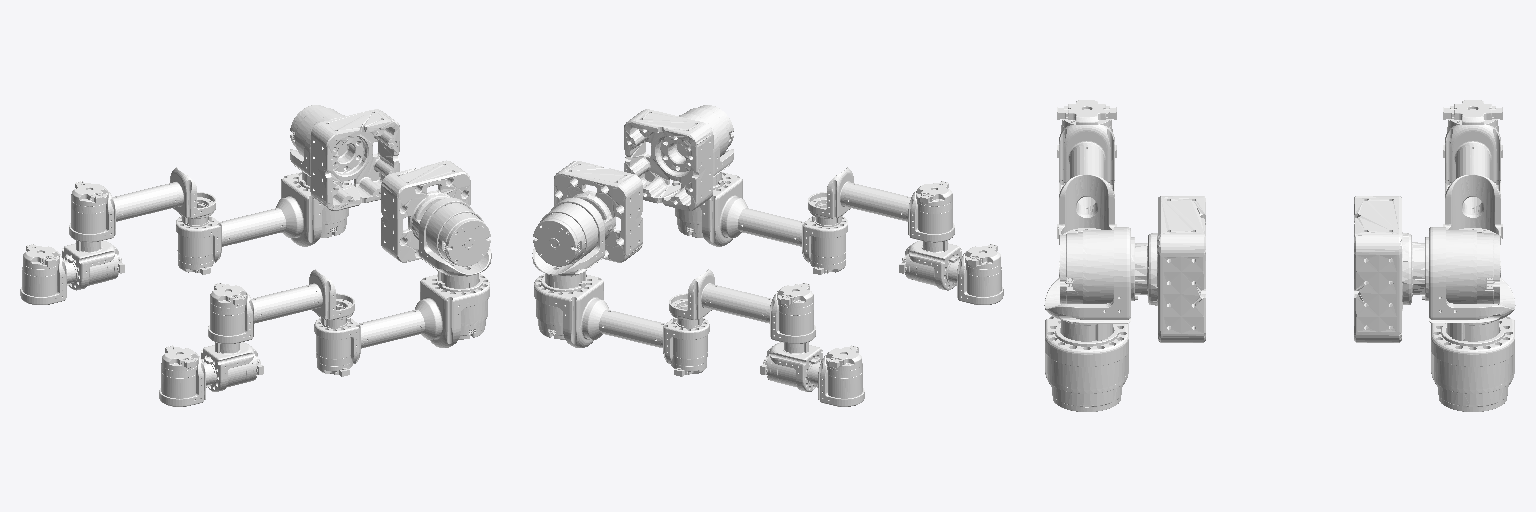
--- What the picture shows (computed from the rendered views, not written in the file) ---
The picture shows the robot from 3 angles, left to right: view 1: azimuth 30°, elevation 25°; view 2: azimuth 150°, elevation 25°; view 3: azimuth 270°, elevation 25°; orthographic projection.
Model dual_arm with 18 links and 17 joints (12 revolute, 1 continuous, 4 fixed), rooted at dummy, posed all joints at 0.
Links seen in each view (by area): view 1: left_base_link, right_2_Link, left_2_Link, right_base_link, left_3_Link, right_1_Link, right_3_Link, left_4_Link, right_4_Link, right_6_Link, left_6_Link, left_1_Link (+2 smaller); view 2: right_base_link, left_2_Link, right_2_Link, left_base_link, right_3_Link, left_1_Link, left_3_Link, right_4_Link, left_4_Link, left_6_Link, right_6_Link, right_1_Link (+2 smaller); view 3: left_base_link, right_base_link, right_1_Link, left_1_Link, left_2_Link, right_2_Link, right_3_Link, left_3_Link, left_4_Link, right_4_Link.
Link boxes in pixels (left/top/right/bottom): left_base_link: left=310, top=109, right=399, bottom=210; right_2_Link: left=314, top=274, right=489, bottom=363; left_2_Link: left=176, top=172, right=351, bottom=262; right_base_link: left=381, top=160, right=470, bottom=262; left_3_Link: left=69, top=167, right=215, bottom=274; right_1_Link: left=419, top=197, right=491, bottom=288; right_3_Link: left=208, top=269, right=354, bottom=376; left_4_Link: left=62, top=181, right=115, bottom=290; right_4_Link: left=201, top=283, right=254, bottom=391; right_6_Link: left=161, top=345, right=197, bottom=398; left_6_Link: left=22, top=244, right=58, bottom=296; left_1_Link: left=290, top=105, right=344, bottom=185; right_base_link: left=624, top=109, right=713, bottom=210; left_2_Link: left=534, top=274, right=709, bottom=363; right_2_Link: left=672, top=172, right=847, bottom=262; left_base_link: left=554, top=161, right=642, bottom=262; right_3_Link: left=808, top=167, right=954, bottom=274; left_1_Link: left=532, top=197, right=604, bottom=288; left_3_Link: left=669, top=269, right=815, bottom=376; right_4_Link: left=908, top=181, right=961, bottom=290; left_4_Link: left=769, top=283, right=822, bottom=391; left_6_Link: left=826, top=345, right=862, bottom=398; right_6_Link: left=965, top=244, right=1001, bottom=296; right_1_Link: left=679, top=105, right=733, bottom=185; left_base_link: left=1354, top=196, right=1424, bottom=342; right_base_link: left=1135, top=196, right=1205, bottom=342; right_1_Link: left=1044, top=227, right=1137, bottom=341; left_1_Link: left=1422, top=227, right=1515, bottom=341; left_2_Link: left=1431, top=277, right=1514, bottom=411; right_2_Link: left=1045, top=277, right=1128, bottom=411; right_3_Link: left=1059, top=125, right=1114, bottom=244; left_3_Link: left=1445, top=125, right=1500, bottom=244; left_4_Link: left=1443, top=100, right=1502, bottom=193; right_4_Link: left=1057, top=100, right=1116, bottom=193.
Bounding box of the posed robot: 0.5444 × 0.4771 × 0.2196 m (x, y, z).
Meshes: 8 distinct files referenced, 14 mesh visuals loaded (7 binary STL); not drawn: 1 (reference not matched to a file when rendering).

robot.urdf — dual_arm:
<?xml version="1.0" ?>
<!-- =================================================================================== -->
<!-- |    This document was autogenerated by xacro from dual_arm.xacro                 | -->
<!-- |    EDITING THIS FILE BY HAND IS NOT RECOMMENDED                                 | -->
<!-- =================================================================================== -->
<robot name="dual_arm">
  <!--Constant define-->
  <!--base define-->
  
  <link name="dummy">
    </link>
  


  <joint name="dummy_center_joint" type="fixed">
    <origin rpy="0 0 0" xyz="0 0 0"/>
    <parent link="dummy"/>
    <child link="cloud_platform"/>
  </joint>
  <link name="cloud_platform">
    </link>

  <joint name="cloud_platform_joint" type="continuous">
    <origin rpy="0 0 -1.570795" xyz="0 0 0"/>
    <parent link="cloud_platform"/>
    <child link="base_link"/>
    <axis xyz="0 0 1"/>
    <!--limit effort="60" lower="-3.14159" upper="4.14159" velocity="3.14"/-->
  </joint>

  <link name="base_link">
    <inertial>
      <origin rpy="0 0 0" xyz="1.3843E-15 1.0159E-16 0.052813"/>
      <mass value="1.088"/>
      <inertia ixx="0.0062111" ixy="-2.1701E-18" ixz="-3.8041E-17" iyy="0.019573" iyz="2.4964E-18" izz="0.018603"/>
    </inertial>
    <visual>
      <origin rpy="0 0 0" xyz="0 0 0"/>
      <geometry>
        <mesh filename="package://gluon/meshes/center_link.stl"/>
      </geometry>
      <material name="">
        <color rgba="1 1 1 1"/>
      </material>
    </visual>
    <collision>
      <origin rpy="0 0 0" xyz="0 0 0"/>
      <geometry>
        <mesh filename="package://gluon/meshes/center_link.stl"/>
      </geometry>
    </collision>
  </link>
  <link name="kinect2_link">
    </link>
  <joint name="camera_center_joint" type="fixed">
    <origin rpy="3.132523668443418 -0.08587519624949608 1.574670554067391" xyz="1.726742473702382041e-02 -4.821492818581604722e-01 7.785277826224238362e-01"/>
    <parent link="dummy"/>
    <child link="kinect2_link"/>
  </joint>
  <joint name="left_base_joint" type="fixed">
    <origin rpy="-1.570795 0 1.570795" xyz="-0.075 0 0.095"/>
    <parent link="base_link"/>
    <child link="left_base_link"/>
  </joint>
  <link name="left_base_link">
    <inertial>
      <origin rpy="0 0 0" xyz="-7.07923322916521E-05 -3.15078560279351E-07 0.00211490550882476"/>
      <mass value="0.947876033180305"/>
      <inertia ixx="0.0017318413107461" ixy="3.14952850900379E-10" ixz="2.06131736991631E-06" iyy="0.00151929091543902" iyz="-2.03157503363577E-07" izz="0.00288656909579778"/>
    </inertial>
    <visual>
      <origin rpy="0 0 0" xyz="0 0 0"/>
      <geometry>
        <mesh filename="package://gluon/meshes/base_link.STL"/>
      </geometry>
      <material name="">
        <color rgba="1 1 1 1"/>
      </material>
    </visual>
    <collision>
      <origin rpy="0 0 0" xyz="0 0 0"/>
      <geometry>
        <mesh filename="package://gluon/meshes/base_link.STL"/>
      </geometry>
    </collision>
  </link>
  <link name="left_1_Link">
    <inertial>
      <origin rpy="0 0 0" xyz="0.0136179271893209 7.04702633335797E-07 -0.00891671768932772"/>
      <mass value="0.427787775289708"/>
      <inertia ixx="0.000328336335162208" ixy="1.39942675254359E-08" ixz="-4.96624559527467E-05" iyy="0.000349499347099752" iyz="7.16862445800443E-09" izz="0.000398779291439988"/>
    </inertial>
    <visual>
      <origin rpy="0 0 0" xyz="0 0 0"/>
      <geometry>
        <mesh filename="package://gluon/meshes/1_Link.STL"/>
      </geometry>
      <material name="">
        <color rgba="1 1 1 1"/>
      </material>
    </visual>
    <collision>
      <origin rpy="0 0 0" xyz="0 0 0"/>
      <geometry>
        <mesh filename="package://gluon/meshes/1_Link.STL"/>
      </geometry>
    </collision>
  </link>
  <joint name="left_axis_joint_1" type="revolute">
    <origin rpy="0 0 1.5708" xyz="0 -1.7907E-05 0.1205"/>
    <parent link="left_base_link"/>
    <child link="left_1_Link"/>
    <axis xyz="0 0 -1"/>
    <limit effort="60" lower="-2.4" upper="2.4" velocity="3.14"/>
  </joint>
  <link name="left_2_Link">
    <inertial>
      <origin rpy="0 0 0" xyz="0.0282477009101944 4.3906549022065E-07 -0.00996354944497273"/>
      <mass value="0.474122227914849"/>
      <inertia ixx="0.000348140976643854" ixy="6.62975404584032E-09" ixz="-3.65184694791613E-05" iyy="0.000363227053478232" iyz="-1.49821649022608E-08" izz="0.00041732509280613"/>
    </inertial>
    <visual>
      <origin rpy="0 0 0" xyz="0 0 0"/>
      <geometry>
        <mesh filename="package://gluon/meshes/2_Link.STL"/>
      </geometry>
      <material name="">
        <color rgba="1 1 1 1"/>
      </material>
    </visual>
    <collision>
      <origin rpy="0 0 0" xyz="0 0 0"/>
      <geometry>
        <mesh filename="package://gluon/meshes/2_Link.STL"/>
      </geometry>
    </collision>
  </link>
  <joint name="left_axis_joint_2" type="revolute">
    <origin rpy="-1.5708 3.1416 -1.5708" xyz="0.1165 0 0"/>
    <parent link="left_1_Link"/>
    <child link="left_2_Link"/>
    <axis xyz="0 0 -1"/>
    <limit effort="60" lower="-2.4" upper="0.1" velocity="3.14"/>
  </joint>
  <link name="left_3_Link">
    <inertial>
      <origin rpy="0 0 0" xyz="0.0550000657149 1.02706571201196E-05 -0.0873823729588203"/>
      <mass value="0.150735858555544"/>
      <inertia ixx="6.48442797417871E-05" ixy="-7.37989542660507E-09" ixz="-1.63575029334465E-07" iyy="7.51775686938988E-05" iyz="-6.30391436593442E-09" izz="8.14430313397472E-05"/>
    </inertial>
    <visual>
      <origin rpy="0 0 0" xyz="0 0 0"/>
      <geometry>
        <mesh filename="package://gluon/meshes/3_Link.STL"/>
      </geometry>
      <material name="">
        <color rgba="1 1 1 1"/>
      </material>
    </visual>
    <collision>
      <origin rpy="0 0 0" xyz="0 0 0"/>
      <geometry>
        <mesh filename="package://gluon/meshes/3_Link.STL"/>
      </geometry>
    </collision>
  </link>
  <joint name="left_axis_joint_3" type="revolute">
    <origin rpy="-0.00039303 0 0" xyz="0.20352 2.2698E-05 0.03825"/>
    <parent link="left_2_Link"/>
    <child link="left_3_Link"/>
    <axis xyz="0 0 1"/>
    <limit effort="30" lower="-2.4" upper="2.4" velocity="3.14"/>
  </joint>
  <link name="left_4_Link">
    <inertial>
      <origin rpy="0 0 0" xyz="0.00316829014378384 -2.51807207740376E-05 -0.065762603358388"/>
      <mass value="0.0868240169253312"/>
      <inertia ixx="3.69273389374954E-05" ixy="-7.74427846366249E-09" ixz="6.58227930408113E-06" iyy="3.88095070665613E-05" iyz="-3.86379121232784E-09" izz="4.25312703267998E-05"/>
    </inertial>
    <visual>
      <origin rpy="0 0 0" xyz="0 0 0"/>
      <geometry>
        <mesh filename="package://gluon/meshes/4_Link.STL"/>
      </geometry>
      <material name="">
        <color rgba="1 1 1 1"/>
      </material>
    </visual>
    <collision>
      <origin rpy="0 0 0" xyz="0 0 0"/>
      <geometry>
        <mesh filename="package://gluon/meshes/4_Link.STL"/>
      </geometry>
    </collision>
  </link>
  <joint name="left_axis_joint_4" type="revolute">
    <origin rpy="-3.1412 0 0" xyz="0.173 1.58E-05 -0.1557"/>
    <parent link="left_3_Link"/>
    <child link="left_4_Link"/>
    <axis xyz="0 0 1"/>
    <limit effort="30" lower="-2.4" upper="2.4" velocity="3.14"/>
  </joint>
  <link name="left_5_Link">
    <inertial>
      <origin rpy="0 0 0" xyz="0.00301334222958494 2.51282272504116E-05 -0.0271578777359305"/>
      <mass value="0.0861219565127689"/>
      <inertia ixx="3.66130359688528E-05" ixy="-7.69517877575345E-09" ixz="6.39794733105846E-06" iyy="3.815099630915E-05" iyz="3.73716337127711E-09" izz="4.20198733154724E-05"/>
    </inertial>
    <visual>
      <origin rpy="0 0 0" xyz="0 0 0"/>
      <geometry>
        <mesh filename="package://gluon/meshes/5_Link.STL"/>
      </geometry>
      <material name="">
        <color rgba="1 1 1 1"/>
      </material>
    </visual>
    <collision>
      <origin rpy="0 0 0" xyz="0 0 0"/>
      <geometry>
        <mesh filename="package://gluon/meshes/5_Link.STL"/>
      </geometry>
    </collision>
  </link>
  <joint name="left_axis_joint_5" type="revolute">
    <origin rpy="3.1416 1.5708 0" xyz="0 0 -0.11743"/>
    <parent link="left_4_Link"/>
    <child link="left_5_Link"/>
    <axis xyz="0 0 1"/>
    <limit effort="30" lower="-2.4" upper="2.4" velocity="3.14"/>
  </joint>
  <link name="left_6_Link">
    <inertial>
      <origin rpy="0 0 0" xyz="2.43062335152366E-05 1.80532182430252E-05 0.0293761927296333"/>
      <mass value="0.0341435122227797"/>
      <inertia ixx="9.69578526103206E-06" ixy="-7.64383826654747E-09" ixz="-3.2515655925902E-09" iyy="1.02214035330215E-05" iyz="6.36682596346152E-09" izz="1.67442220589365E-05"/>
    </inertial>
    <visual>
      <origin rpy="0 0 0" xyz="0 0 0"/>
      <geometry>
        <mesh filename="package://gluon/meshes/6_Link.STL"/>
      </geometry>
      <material name="">
        <color rgba="1 1 1 1"/>
      </material>
    </visual>
    <collision>
      <origin rpy="0 0 0" xyz="0 0 0"/>
      <geometry>
        <mesh filename="package://gluon/meshes/6_Link.STL"/>
      </geometry>
    </collision>
  </link>
  <joint name="left_axis_joint_6" type="revolute">
    <origin rpy="3.1412 1.5708 0" xyz="0.019524 2.2696E-05 -0.079176"/>
    <parent link="left_5_Link"/>
    <child link="left_6_Link"/>
    <axis xyz="0 0 1"/>
    <limit effort="30" lower="-2.4" upper="2.4" velocity="3.14"/>
  </joint>
  <!--gazebo reference="left_base_link">
    <material>Gazebo/White</material>
  </gazebo>
  <gazebo reference="left_1_Link">
    <material>Gazebo/White</material>
    <selfCollide>true</selfCollide>
  </gazebo>
  <gazebo reference="left_2_Link">
    <material>Gazebo/White</material>
    <selfCollide>true</selfCollide>
  </gazebo>
  <gazebo reference="left_3_Link">
    <material>Gazebo/White</material>
    <selfCollide>true</selfCollide>
  </gazebo>
  <gazebo reference="left_4_Link">
    <material>Gazebo/White</material>
    <selfCollide>true</selfCollide>
  </gazebo>
  <gazebo reference="left_5_Link">
    <material>Gazebo/White</material>
    <selfCollide>true</selfCollide>
  </gazebo>
  <gazebo reference="left_6_Link">
    <material>Gazebo/White</material>
    <selfCollide>true</selfCollide>
  </gazebo>
  <transmission name="left_axis_joint_1_trans">
    <type>transmission_interface/SimpleTransmission</type>
    <joint name="left_axis_joint_1">
      <hardwareInterface>hardware_interface/EffortJointInterface</hardwareInterface>
    </joint>
    <actuator name="left_axis_joint_1_motor">
      <hardwareInterface>hardware_interface/EffortJointInterface</hardwareInterface>
      <mechanicalReduction>1</mechanicalReduction>
    </actuator>
  </transmission>
  <transmission name="left_axis_joint_2_trans">
    <type>transmission_interface/SimpleTransmission</type>
    <joint name="left_axis_joint_2">
      <hardwareInterface>hardware_interface/EffortJointInterface</hardwareInterface>
    </joint>
    <actuator name="left_axis_joint_2_motor">
      <hardwareInterface>hardware_interface/EffortJointInterface</hardwareInterface>
      <mechanicalReduction>1</mechanicalReduction>
    </actuator>
  </transmission>
  <transmission name="left_axis_joint_3_trans">
    <type>transmission_interface/SimpleTransmission</type>
    <joint name="left_axis_joint_3">
      <hardwareInterface>hardware_interface/EffortJointInterface</hardwareInterface>
    </joint>
    <actuator name="left_axis_joint_3_motor">
      <hardwareInterface>hardware_interface/EffortJointInterface</hardwareInterface>
      <mechanicalReduction>1</mechanicalReduction>
    </actuator>
  </transmission>
  <transmission name="left_axis_joint_4_trans">
    <type>transmission_interface/SimpleTransmission</type>
    <joint name="left_axis_joint_4">
      <hardwareInterface>hardware_interface/EffortJointInterface</hardwareInterface>
    </joint>
    <actuator name="left_axis_joint_4_motor">
      <hardwareInterface>hardware_interface/EffortJointInterface</hardwareInterface>
      <mechanicalReduction>1</mechanicalReduction>
    </actuator>
  </transmission>
  <transmission name="left_axis_joint_5_trans">
    <type>transmission_interface/SimpleTransmission</type>
    <joint name="left_axis_joint_5">
      <hardwareInterface>hardware_interface/EffortJointInterface</hardwareInterface>
    </joint>
    <actuator name="left_axis_joint_5_motor">
      <hardwareInterface>hardware_interface/EffortJointInterface</hardwareInterface>
      <mechanicalReduction>1</mechanicalReduction>
    </actuator>
  </transmission>
  <transmission name="left_axis_joint_6_trans">
    <type>transmission_interface/SimpleTransmission</type>
    <joint name="left_axis_joint_6">
      <hardwareInterface>hardware_interface/EffortJointInterface</hardwareInterface>
    </joint>
    <actuator name="left_axis_joint_6_motor">
      <hardwareInterface>hardware_interface/EffortJointInterface</hardwareInterface>
      <mechanicalReduction>1</mechanicalReduction>
    </actuator>
  </transmission-->
  <joint name="right_base_joint" type="fixed">
    <origin rpy="1.570795 0 1.570795" xyz="0.075 0 0.095"/>
    <parent link="base_link"/>
    <child link="right_base_link"/>
  </joint>
  <link name="right_base_link">
    <inertial>
      <origin rpy="0 0 0" xyz="-7.07923322916521E-05 -3.15078560279351E-07 0.00211490550882476"/>
      <mass value="0.947876033180305"/>
      <inertia ixx="0.0017318413107461" ixy="3.14952850900379E-10" ixz="2.06131736991631E-06" iyy="0.00151929091543902" iyz="-2.03157503363577E-07" izz="0.00288656909579778"/>
    </inertial>
    <visual>
      <origin rpy="0 0 0" xyz="0 0 0"/>
      <geometry>
        <mesh filename="package://gluon/meshes/base_link.STL"/>
      </geometry>
      <material name="">
        <color rgba="1 1 1 1"/>
      </material>
    </visual>
    <collision>
      <origin rpy="0 0 0" xyz="0 0 0"/>
      <geometry>
        <mesh filename="package://gluon/meshes/base_link.STL"/>
      </geometry>
    </collision>
  </link>
  <link name="right_1_Link">
    <inertial>
      <origin rpy="0 0 0" xyz="0.0136179271893209 7.04702633335797E-07 -0.00891671768932772"/>
      <mass value="0.427787775289708"/>
      <inertia ixx="0.000328336335162208" ixy="1.39942675254359E-08" ixz="-4.96624559527467E-05" iyy="0.000349499347099752" iyz="7.16862445800443E-09" izz="0.000398779291439988"/>
    </inertial>
    <visual>
      <origin rpy="0 0 0" xyz="0 0 0"/>
      <geometry>
        <mesh filename="package://gluon/meshes/1_Link.STL"/>
      </geometry>
      <material name="">
        <color rgba="1 1 1 1"/>
      </material>
    </visual>
    <collision>
      <origin rpy="0 0 0" xyz="0 0 0"/>
      <geometry>
        <mesh filename="package://gluon/meshes/1_Link.STL"/>
      </geometry>
    </collision>
  </link>
  <joint name="right_axis_joint_1" type="revolute">
    <origin rpy="0 0 -1.5708" xyz="0 -1.7907E-05 0.1205"/>
    <parent link="right_base_link"/>
    <child link="right_1_Link"/>
    <axis xyz="0 0 -1"/>
    <limit effort="60" lower="-2.4" upper="2.4" velocity="3.14"/>
  </joint>
  <link name="right_2_Link">
    <inertial>
      <origin rpy="0 0 0" xyz="0.0282477009101944 4.3906549022065E-07 -0.00996354944497273"/>
      <mass value="0.474122227914849"/>
      <inertia ixx="0.000348140976643854" ixy="6.62975404584032E-09" ixz="-3.65184694791613E-05" iyy="0.000363227053478232" iyz="-1.49821649022608E-08" izz="0.00041732509280613"/>
    </inertial>
    <visual>
      <origin rpy="0 0 0" xyz="0 0 0"/>
      <geometry>
        <mesh filename="package://gluon/meshes/2_Link.STL"/>
      </geometry>
      <material name="">
        <color rgba="1 1 1 1"/>
      </material>
    </visual>
    <collision>
      <origin rpy="0 0 0" xyz="0 0 0"/>
      <geometry>
        <mesh filename="package://gluon/meshes/2_Link.STL"/>
      </geometry>
    </collision>
  </link>
  <joint name="right_axis_joint_2" type="revolute">
    <origin rpy="-1.5708 0 -1.5708" xyz="0.1165 0 0"/>
    <parent link="right_1_Link"/>
    <child link="right_2_Link"/>
    <axis xyz="0 0 -1"/>
    <limit effort="60" lower="-0.1" upper="1.54" velocity="3.14"/>
  </joint>
  <link name="right_3_Link">
    <inertial>
      <origin rpy="0 0 0" xyz="0.0550000657149 1.02706571201196E-05 -0.0873823729588203"/>
      <mass value="0.150735858555544"/>
      <inertia ixx="6.48442797417871E-05" ixy="-7.37989542660507E-09" ixz="-1.63575029334465E-07" iyy="7.51775686938988E-05" iyz="-6.30391436593442E-09" izz="8.14430313397472E-05"/>
    </inertial>
    <visual>
      <origin rpy="0 0 0" xyz="0 0 0"/>
      <geometry>
        <mesh filename="package://gluon/meshes/3_Link.STL"/>
      </geometry>
      <material name="">
        <color rgba="1 1 1 1"/>
      </material>
    </visual>
    <collision>
      <origin rpy="0 0 0" xyz="0 0 0"/>
      <geometry>
        <mesh filename="package://gluon/meshes/3_Link.STL"/>
      </geometry>
    </collision>
  </link>
  <joint name="right_axis_joint_3" type="revolute">
    <origin rpy="-0.00039303 0 0" xyz="0.20352 2.2698E-05 0.03825"/>
    <parent link="right_2_Link"/>
    <child link="right_3_Link"/>
    <axis xyz="0 0 1"/>
    <limit effort="30" lower="-2.4" upper="2.4" velocity="3.14"/>
  </joint>
  <link name="right_4_Link">
    <inertial>
      <origin rpy="0 0 0" xyz="0.00316829014378384 -2.51807207740376E-05 -0.065762603358388"/>
      <mass value="0.0868240169253312"/>
      <inertia ixx="3.69273389374954E-05" ixy="-7.74427846366249E-09" ixz="6.58227930408113E-06" iyy="3.88095070665613E-05" iyz="-3.86379121232784E-09" izz="4.25312703267998E-05"/>
    </inertial>
    <visual>
      <origin rpy="0 0 0" xyz="0 0 0"/>
      <geometry>
        <mesh filename="package://gluon/meshes/4_Link.STL"/>
      </geometry>
      <material name="">
        <color rgba="1 1 1 1"/>
      </material>
    </visual>
    <collision>
      <origin rpy="0 0 0" xyz="0 0 0"/>
      <geometry>
        <mesh filename="package://gluon/meshes/4_Link.STL"/>
      </geometry>
    </collision>
  </link>
  <joint name="right_axis_joint_4" type="revolute">
    <origin rpy="-3.1412 0 0" xyz="0.173 1.58E-05 -0.1557"/>
    <parent link="right_3_Link"/>
    <child link="right_4_Link"/>
    <axis xyz="0 0 1"/>
    <limit effort="30" lower="-2.4" upper="2.4" velocity="3.14"/>
  </joint>
  <link name="right_5_Link">
    <inertial>
      <origin rpy="0 0 0" xyz="0.00301334222958494 2.51282272504116E-05 -0.0271578777359305"/>
      <mass value="0.0861219565127689"/>
      <inertia ixx="3.66130359688528E-05" ixy="-7.69517877575345E-09" ixz="6.39794733105846E-06" iyy="3.815099630915E-05" iyz="3.73716337127711E-09" izz="4.20198733154724E-05"/>
    </inertial>
    <visual>
      <origin rpy="0 0 0" xyz="0 0 0"/>
      <geometry>
        <mesh filename="package://gluon/meshes/5_Link.STL"/>
      </geometry>
      <material name="">
        <color rgba="1 1 1 1"/>
      </material>
    </visual>
    <collision>
      <origin rpy="0 0 0" xyz="0 0 0"/>
      <geometry>
        <mesh filename="package://gluon/meshes/5_Link.STL"/>
      </geometry>
    </collision>
  </link>
  <joint name="right_axis_joint_5" type="revolute">
    <origin rpy="3.1416 1.5708 0" xyz="0 0 -0.11743"/>
    <parent link="right_4_Link"/>
    <child link="right_5_Link"/>
    <axis xyz="0 0 1"/>
    <limit effort="30" lower="-2.4" upper="2.4" velocity="3.14"/>
  </joint>
  <link name="right_6_Link">
    <inertial>
      <origin rpy="0 0 0" xyz="2.43062335152366E-05 1.80532182430252E-05 0.0293761927296333"/>
      <mass value="0.0341435122227797"/>
      <inertia ixx="9.69578526103206E-06" ixy="-7.64383826654747E-09" ixz="-3.2515655925902E-09" iyy="1.02214035330215E-05" iyz="6.36682596346152E-09" izz="1.67442220589365E-05"/>
    </inertial>
    <visual>
      <origin rpy="0 0 0" xyz="0 0 0"/>
      <geometry>
        <mesh filename="package://gluon/meshes/6_Link.STL"/>
      </geometry>
      <material name="">
        <color rgba="1 1 1 1"/>
      </material>
    </visual>
    <collision>
      <origin rpy="0 0 0" xyz="0 0 0"/>
      <geometry>
        <mesh filename="package://gluon/meshes/6_Link.STL"/>
      </geometry>
    </collision>
  </link>
  <joint name="right_axis_joint_6" type="revolute">
    <origin rpy="3.1412 1.5708 0" xyz="0.019524 2.2696E-05 -0.079176"/>
    <parent link="right_5_Link"/>
    <child link="right_6_Link"/>
    <axis xyz="0 0 -1"/>
    <limit effort="30" lower="-2.4" upper="2.4" velocity="3.14"/>
  </joint>
  <!--gazebo reference="right_base_link">
    <material>Gazebo/White</material>
  </gazebo>
  <gazebo reference="right_1_Link">
    <material>Gazebo/White</material>
    <selfCollide>true</selfCollide>
  </gazebo>
  <gazebo reference="right_2_Link">
    <material>Gazebo/White</material>
    <selfCollide>true</selfCollide>
  </gazebo>
  <gazebo reference="right_3_Link">
    <material>Gazebo/White</material>
    <selfCollide>true</selfCollide>
  </gazebo>
  <gazebo reference="right_4_Link">
    <material>Gazebo/White</material>
    <selfCollide>true</selfCollide>
  </gazebo>
  <gazebo reference="right_5_Link">
    <material>Gazebo/White</material>
    <selfCollide>true</selfCollide>
  </gazebo>
  <gazebo reference="right_6_Link">
    <material>Gazebo/White</material>
    <selfCollide>true</selfCollide>
  </gazebo>
  <transmission name="right_axis_joint_1_trans">
    <type>transmission_interface/SimpleTransmission</type>
    <joint name="right_axis_joint_1">
      <hardwareInterface>hardware_interface/EffortJointInterface</hardwareInterface>
    </joint>
    <actuator name="right_axis_joint_1_motor">
      <hardwareInterface>hardware_interface/EffortJointInterface</hardwareInterface>
      <mechanicalReduction>1</mechanicalReduction>
    </actuator>
  </transmission>
  <transmission name="right_axis_joint_2_trans">
    <type>transmission_interface/SimpleTransmission</type>
    <joint name="right_axis_joint_2">
      <hardwareInterface>hardware_interface/EffortJointInterface</hardwareInterface>
    </joint>
    <actuator name="right_axis_joint_2_motor">
      <hardwareInterface>hardware_interface/EffortJointInterface</hardwareInterface>
      <mechanicalReduction>1</mechanicalReduction>
    </actuator>
  </transmission>
  <transmission name="right_axis_joint_3_trans">
    <type>transmission_interface/SimpleTransmission</type>
    <joint name="right_axis_joint_3">
      <hardwareInterface>hardware_interface/EffortJointInterface</hardwareInterface>
    </joint>
    <actuator name="right_axis_joint_3_motor">
      <hardwareInterface>hardware_interface/EffortJointInterface</hardwareInterface>
      <mechanicalReduction>1</mechanicalReduction>
    </actuator>
  </transmission>
  <transmission name="right_axis_joint_4_trans">
    <type>transmission_interface/SimpleTransmission</type>
    <joint name="right_axis_joint_4">
      <hardwareInterface>hardware_interface/EffortJointInterface</hardwareInterface>
    </joint>
    <actuator name="right_axis_joint_4_motor">
      <hardwareInterface>hardware_interface/EffortJointInterface</hardwareInterface>
      <mechanicalReduction>1</mechanicalReduction>
    </actuator>
  </transmission>
  <transmission name="right_axis_joint_5_trans">
    <type>transmission_interface/SimpleTransmission</type>
    <joint name="right_axis_joint_5">
      <hardwareInterface>hardware_interface/EffortJointInterface</hardwareInterface>
    </joint>
    <actuator name="right_axis_joint_5_motor">
      <hardwareInterface>hardware_interface/EffortJointInterface</hardwareInterface>
      <mechanicalReduction>1</mechanicalReduction>
    </actuator>
  </transmission>
  <transmission name="right_axis_joint_6_trans">
    <type>transmission_interface/SimpleTransmission</type>
    <joint name="right_axis_joint_6">
      <hardwareInterface>hardware_interface/EffortJointInterface</hardwareInterface>
    </joint>
    <actuator name="right_axis_joint_6_motor">
      <hardwareInterface>hardware_interface/EffortJointInterface</hardwareInterface>
      <mechanicalReduction>1</mechanicalReduction>
    </actuator>
  </transmission>
  <gazebo>
    <plugin filename="libgazebo_ros_control.so" name="gazebo_ros_control"/>
  </gazebo-->
</robot>
